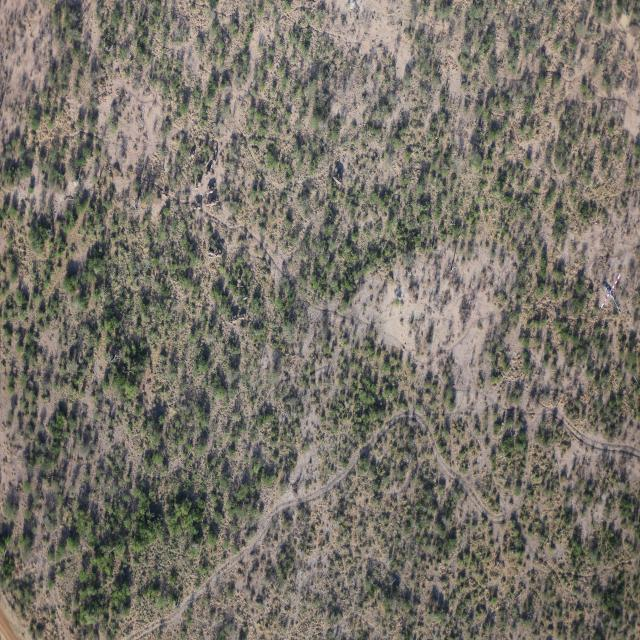elephant: (332, 176, 342, 184), (213, 252, 223, 258), (194, 182, 201, 190), (228, 318, 237, 324), (206, 201, 215, 207), (237, 278, 241, 288), (494, 561, 499, 569), (206, 189, 215, 193), (205, 170, 210, 177), (206, 251, 214, 255), (194, 206, 202, 210), (211, 160, 215, 167), (239, 316, 245, 320), (189, 154, 195, 158), (162, 194, 167, 198), (206, 161, 209, 167), (215, 149, 217, 156), (215, 200, 219, 203)
